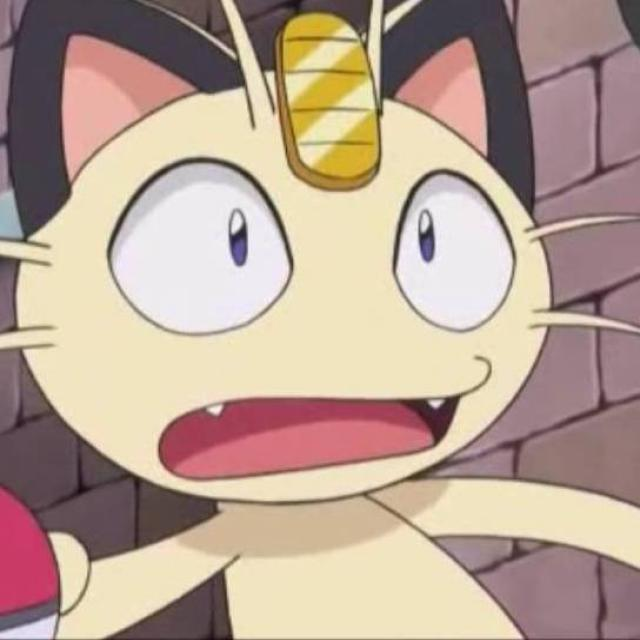Meowth: (5, 36, 554, 560)
